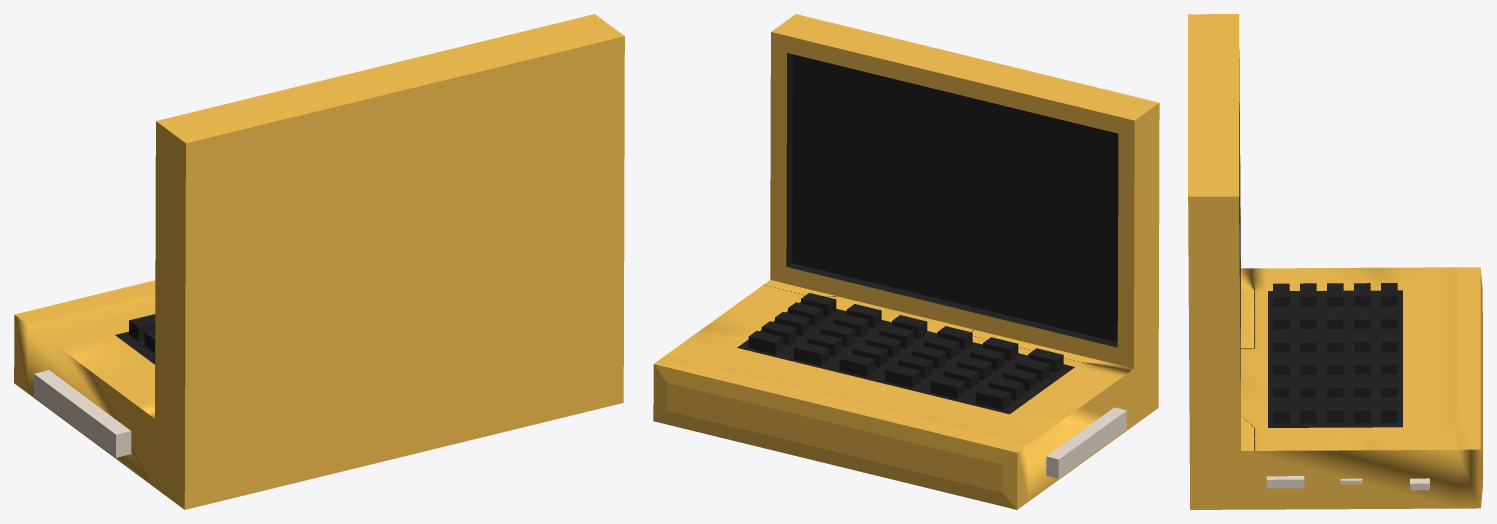
Rendered from LaptopTopObject.fbx.
3 renders of one model, left to right at view 1: azimuth 30°, elevation 25°; view 2: azimuth 150°, elevation 25°; view 3: azimuth 270°, elevation 25°, orthographic. The views are drawn at different scales.
Visible parts, largest first — view 1: Cube; view 2: Cube; view 3: Cube.
Boxes of the visible parts, x1=… form: Cube: x1=14, y1=14, x2=624, y2=509; Cube: x1=653, y1=14, x2=1159, y2=509; Cube: x1=1188, y1=14, x2=1482, y2=509.
Bounding box in the file's own units: 212 × 160 × 136.
